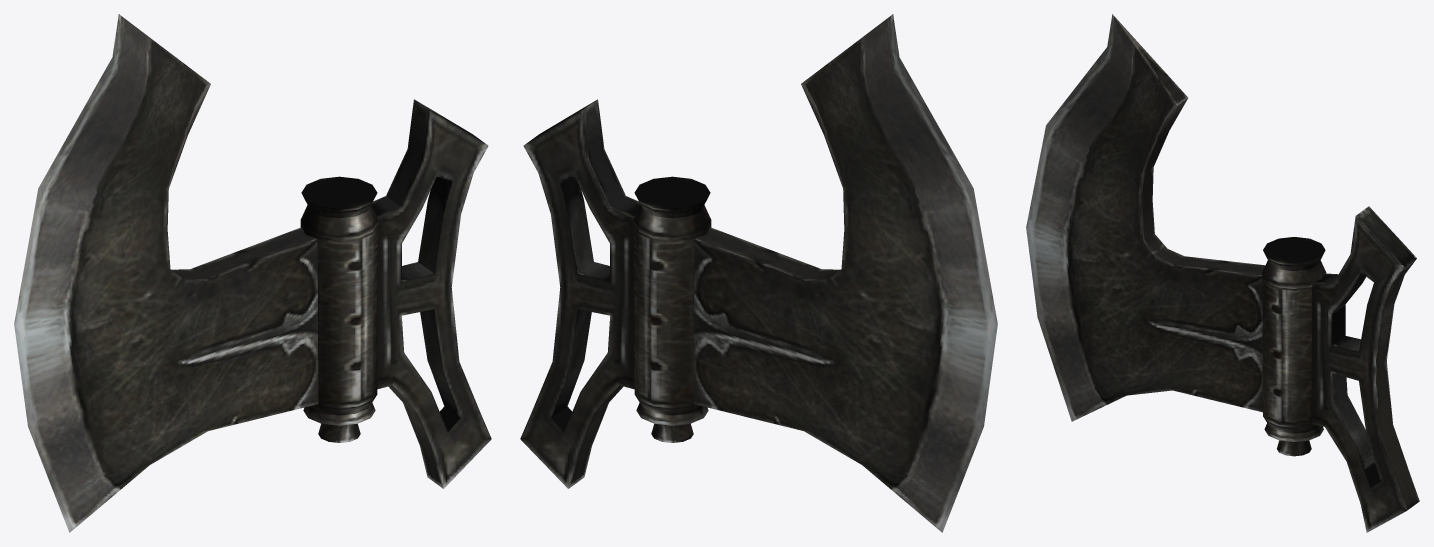
The model's file is Danrenfu_body.FBX.
3 views of the same model, side by side, from view 1: azimuth 30°, elevation 25°; view 2: azimuth 150°, elevation 25°; view 3: azimuth 330°, elevation 25° (orthographic). The views are drawn at different scales.
Parts seen in each view (by area): view 1: Danrenfu_body; view 2: Danrenfu_body; view 3: Danrenfu_body.
Boxes of the visible parts, left/top/right/bottom form: Danrenfu_body: left=14, top=14, right=491, bottom=532; Danrenfu_body: left=520, top=14, right=997, bottom=532; Danrenfu_body: left=1026, top=14, right=1419, bottom=532.
Size of the model in its own units: 42.84 by 47.64 by 6.13.
Materials: 1 (1 with a texture image).
